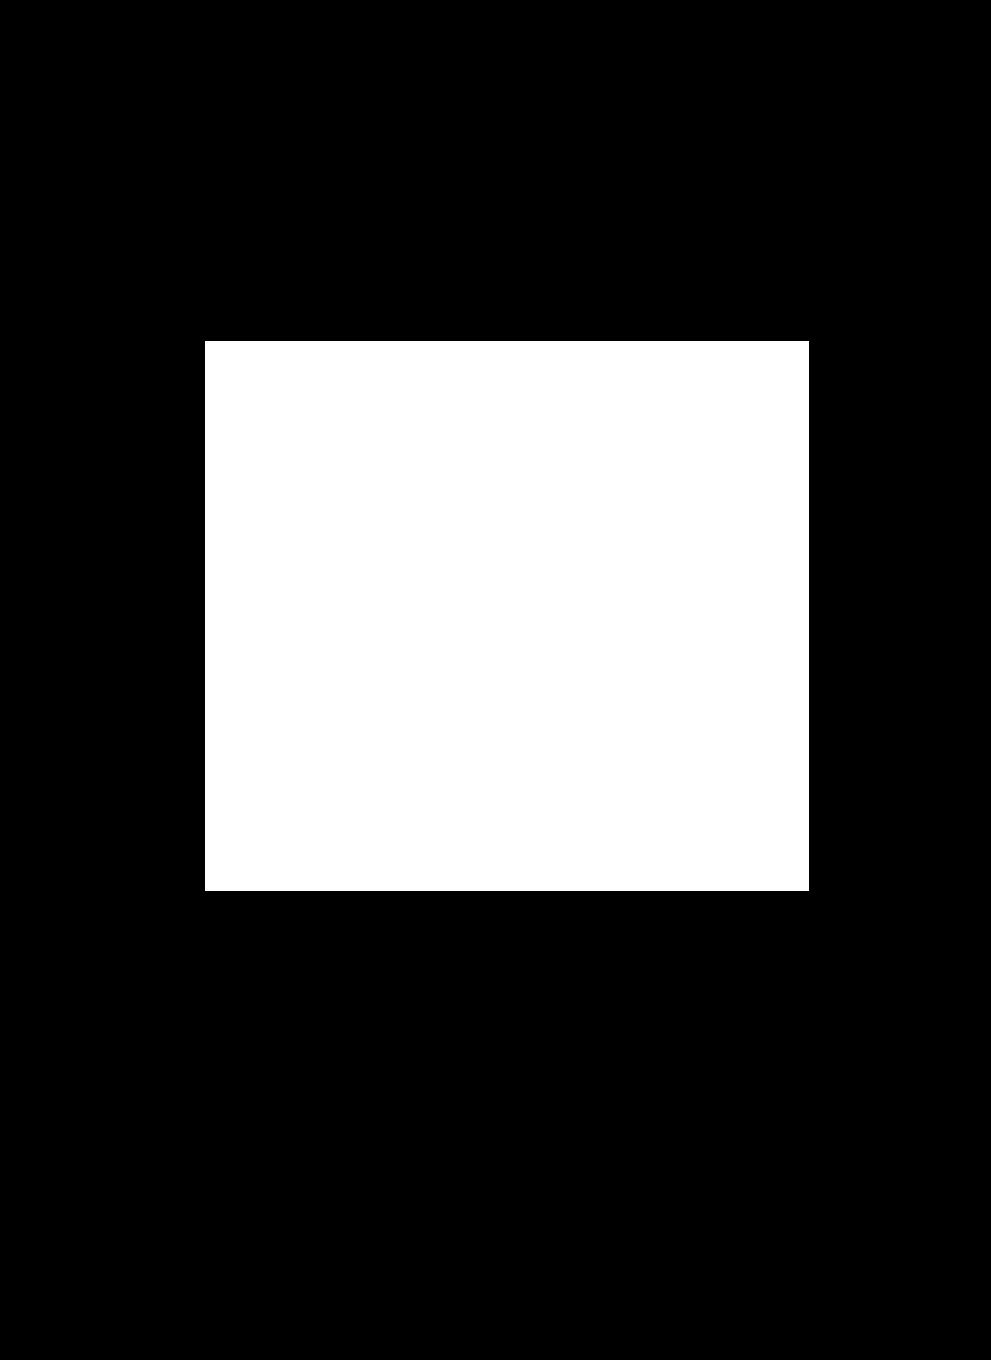table: (205, 341, 809, 891)
